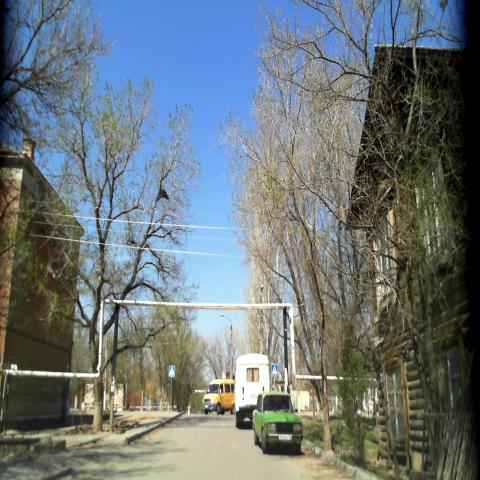5_19_1: (168, 364, 175, 377), (271, 363, 278, 376)
